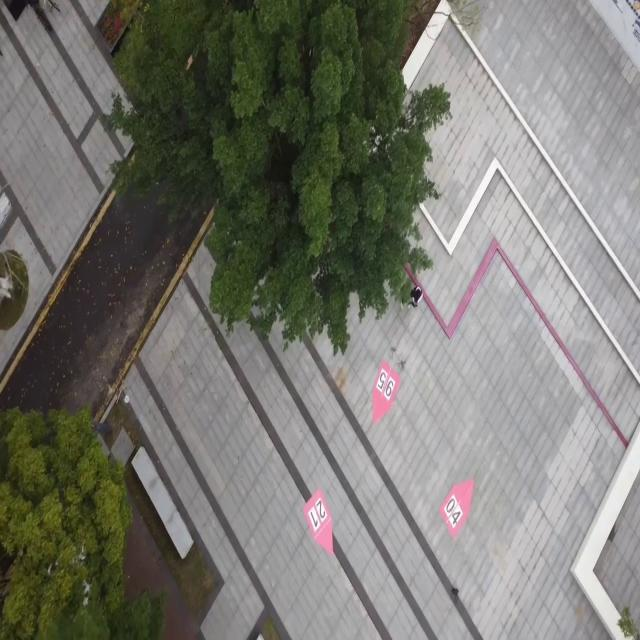-sign-: (364, 350, 407, 426), (302, 486, 342, 560), (440, 475, 476, 537)
